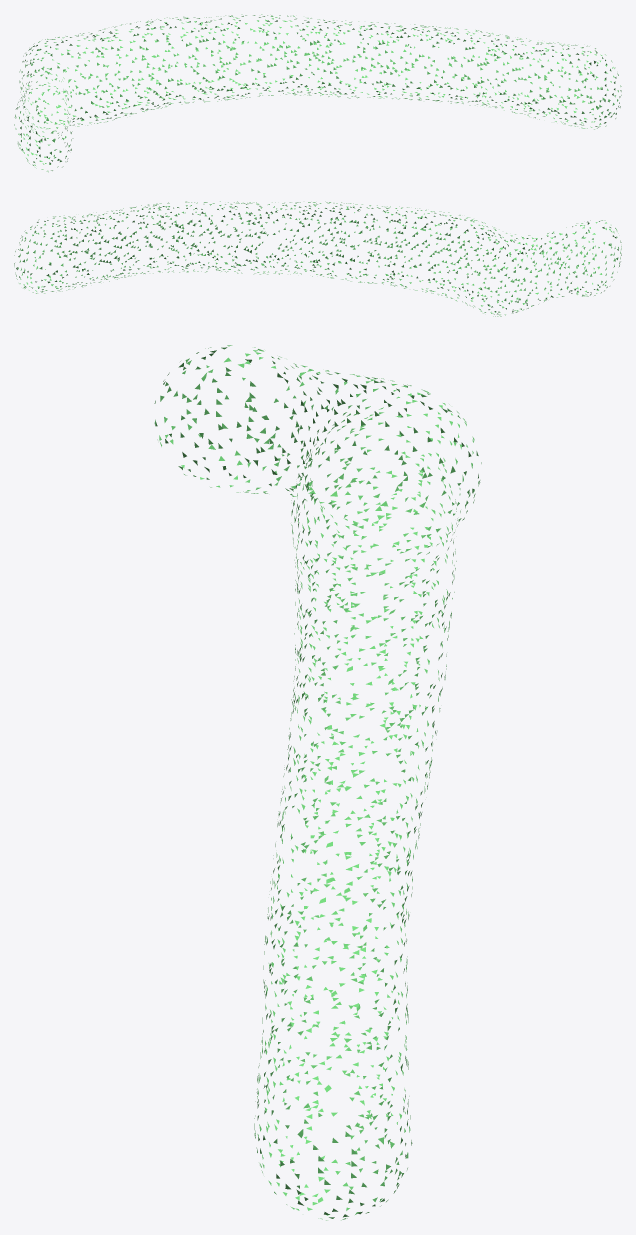
File: morph_018.glb
The picture shows the model from 3 angles, top to bottom: view 1: azimuth 30°, elevation 25°; view 2: azimuth 150°, elevation 25°; view 3: azimuth 270°, elevation 25°; orthographic projection. The views are drawn at different scales.
Bounding box in the file's own units: 143 × 44.4 × 36.12.
